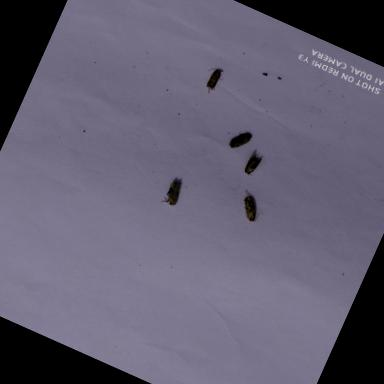pbw: (232, 188, 271, 228), (194, 60, 230, 100), (157, 175, 189, 212), (226, 124, 256, 156), (241, 147, 268, 181)
